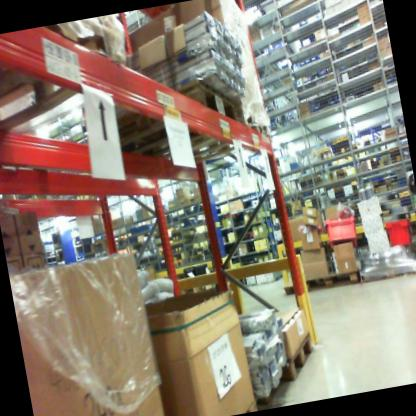pallet: (54, 78, 247, 170), (0, 16, 143, 130), (156, 96, 280, 167), (266, 329, 321, 387), (282, 268, 367, 303), (251, 366, 291, 409), (239, 398, 260, 412)
small_load_carrier: (321, 209, 364, 251), (379, 210, 416, 252)
